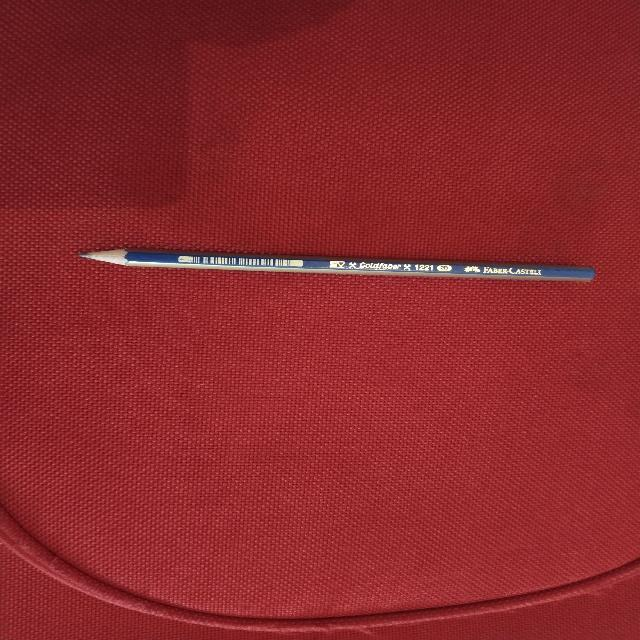pencil: (80, 249, 594, 280)
